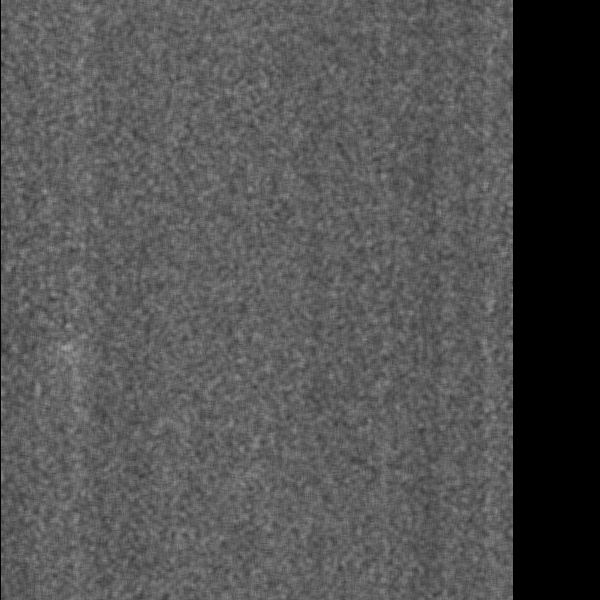spark: (50, 339, 81, 365)
